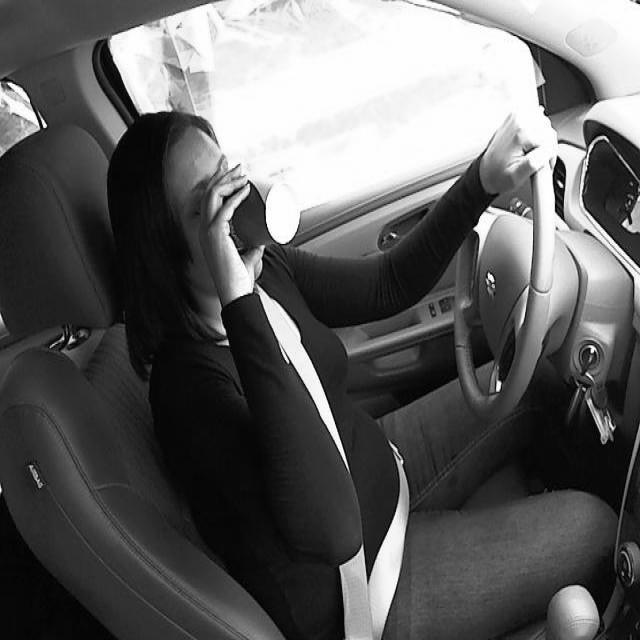drinking: (208, 168, 302, 248)
